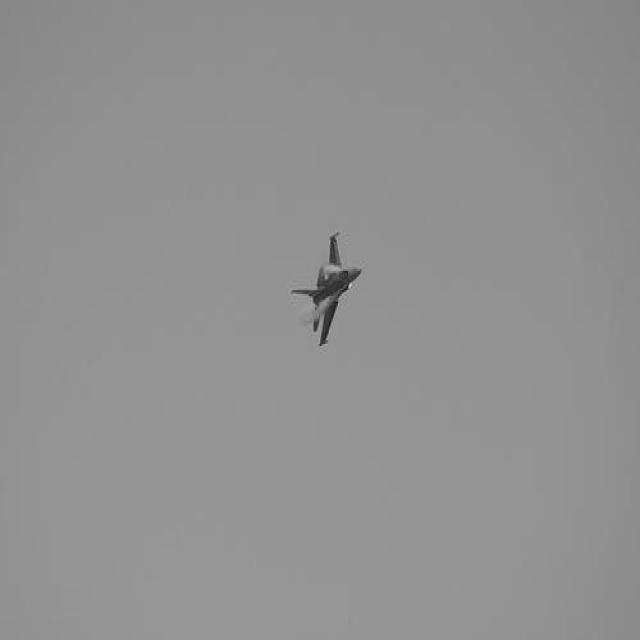aeroplane: (289, 231, 366, 346)
